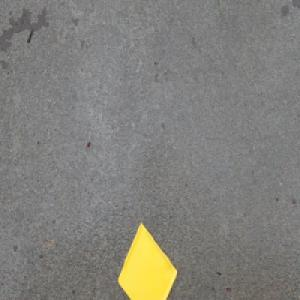PlasticPart: (116, 221, 178, 300)
